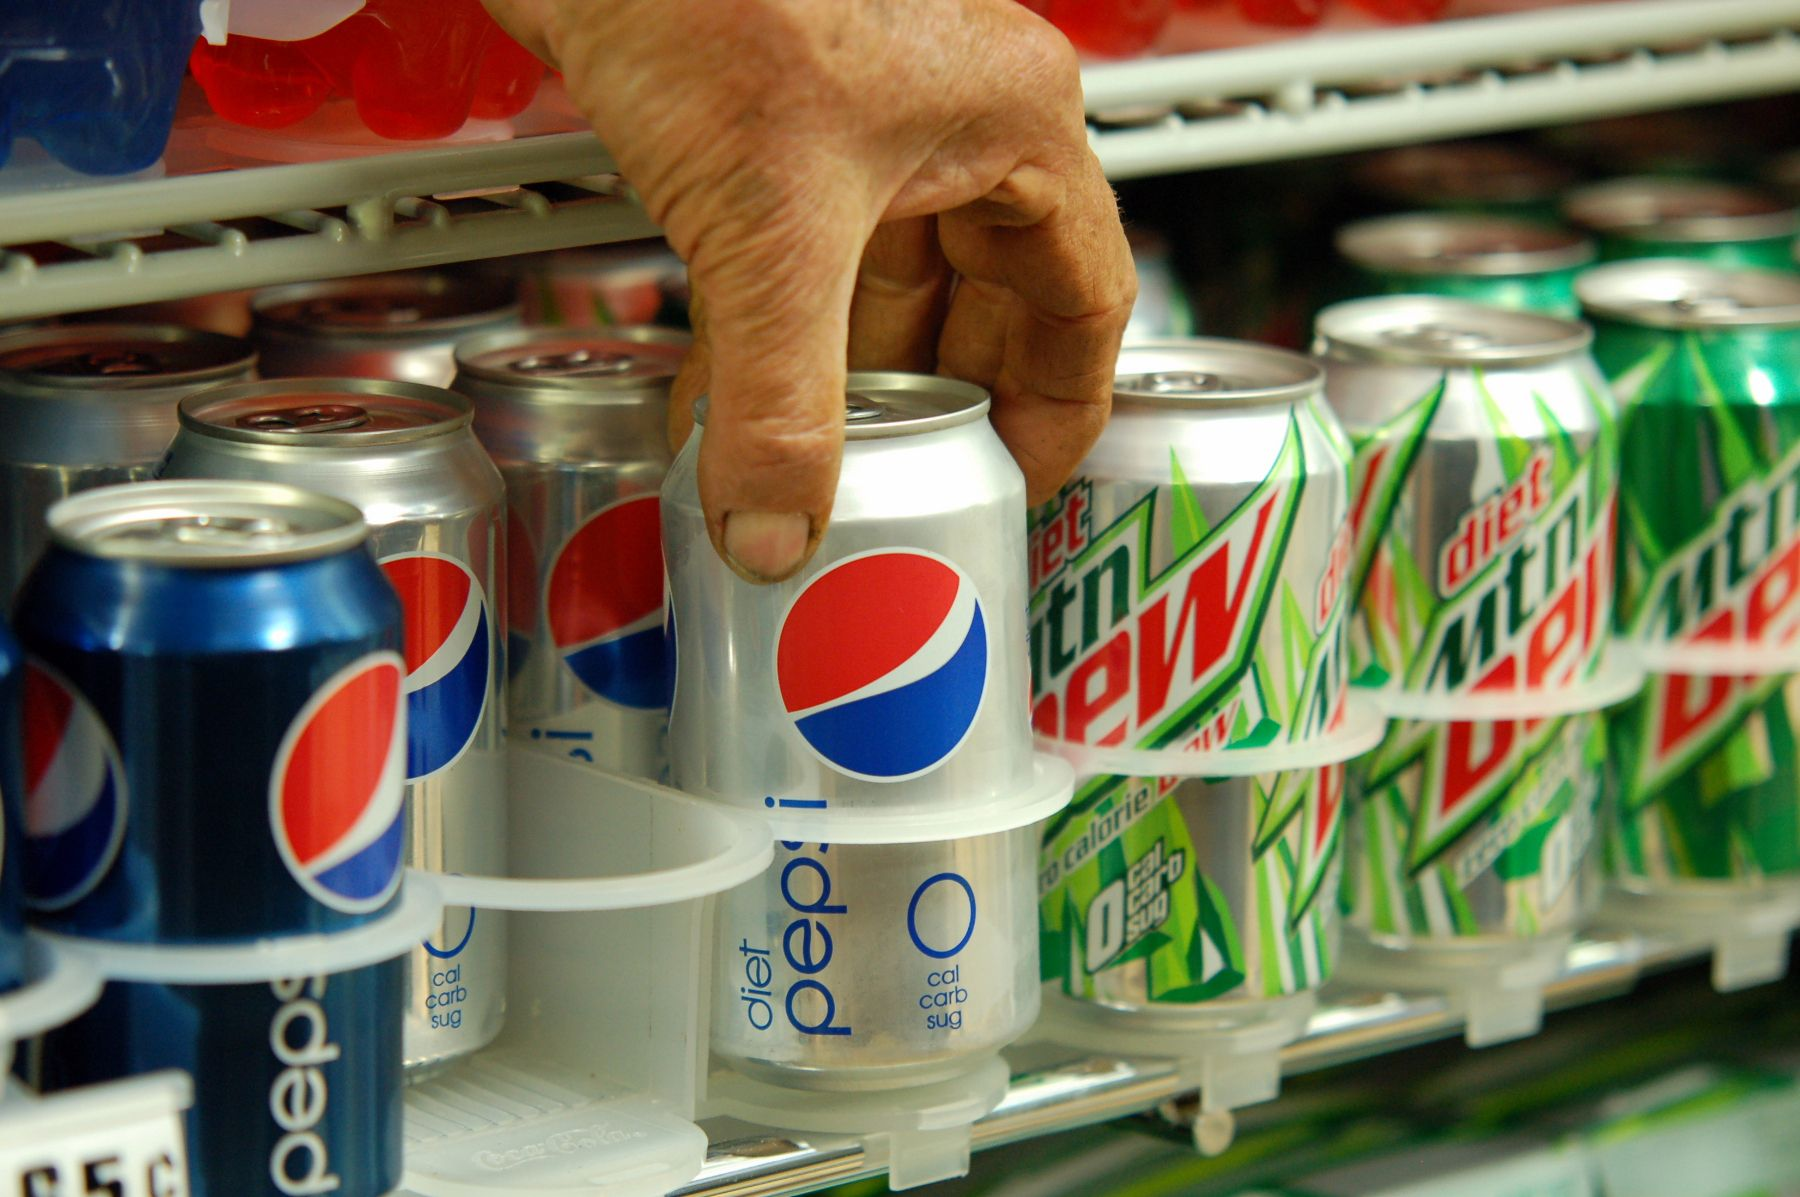pepsi: (782, 548, 987, 780), (264, 649, 418, 920), (264, 659, 418, 920), (264, 649, 407, 920), (358, 538, 490, 778), (539, 476, 676, 707), (358, 548, 490, 778), (539, 489, 676, 707), (17, 655, 131, 911)
